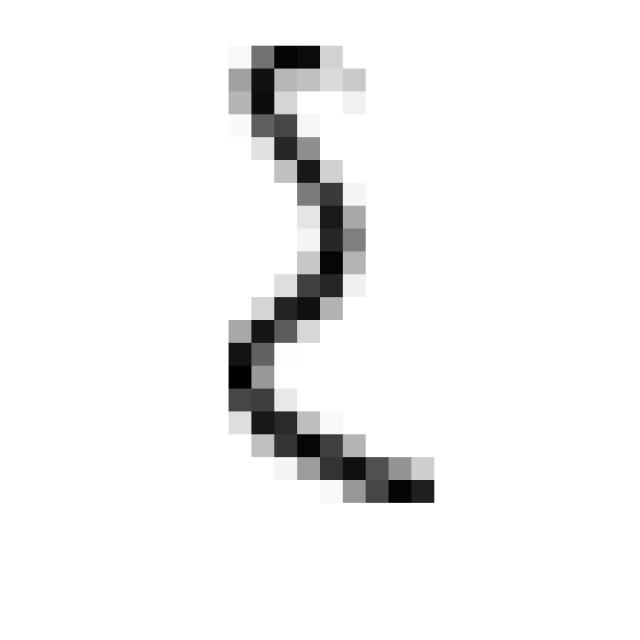4 -four-: (185, 23, 467, 533)
